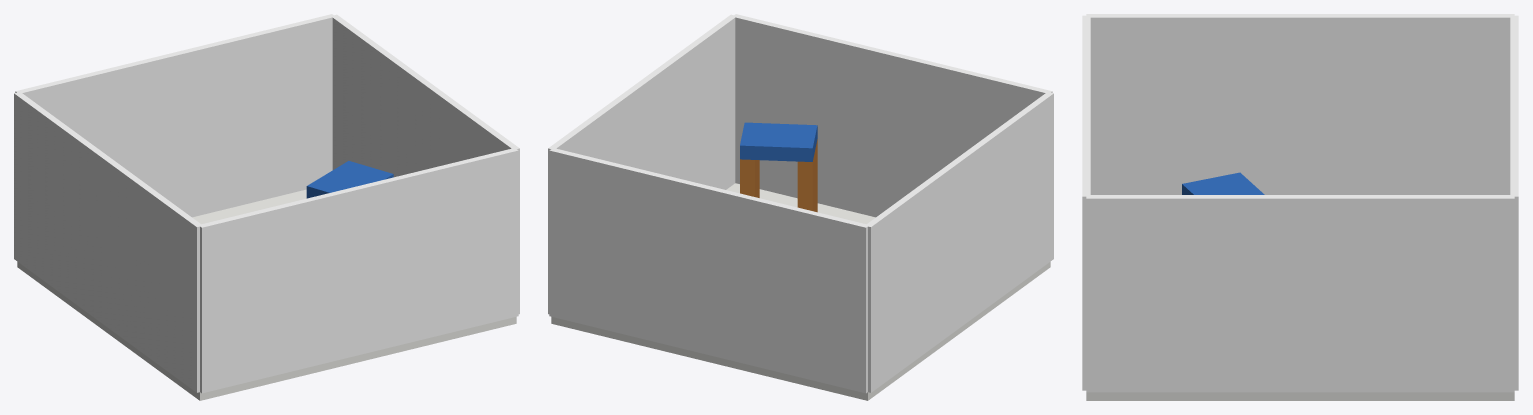
The model's file is wrong-light-type.glb.
The picture shows the model from 3 angles, left to right: view 1: azimuth 30°, elevation 25°; view 2: azimuth 150°, elevation 25°; view 3: azimuth 270°, elevation 25°; orthographic projection. The views are drawn at different scales.
Visible parts, largest first — view 1: wall-wall-c, wall-wall-a, wall-wall-d, wall-wall-b, floor-1, reference-space; view 2: wall-wall-a, wall-wall-c, wall-wall-d, wall-wall-b, floor-1, reference-space, mesh_0_instance_0, mesh_0_instance_1; view 3: wall-wall-b, wall-wall-d, floor-1, wall-wall-a, wall-wall-c, reference-space.
Part boxes in pixels (<box>): wall-wall-c: <box>199,148,518,393</box>; wall-wall-a: <box>15,14,335,217</box>; wall-wall-d: <box>14,92,201,392</box>; wall-wall-b: <box>332,14,519,314</box>; floor-1: <box>17,189,516,400</box>; reference-space: <box>306,161,393,198</box>; wall-wall-a: <box>549,148,869,393</box>; wall-wall-c: <box>733,14,1052,217</box>; wall-wall-d: <box>866,92,1053,392</box>; wall-wall-b: <box>548,14,736,314</box>; floor-1: <box>551,183,1050,400</box>; reference-space: <box>740,122,817,161</box>; mesh_0_instance_0: <box>797,139,817,212</box>; mesh_0_instance_1: <box>740,159,759,197</box>; wall-wall-b: <box>1086,195,1514,392</box>; wall-wall-d: <box>1086,14,1514,194</box>; floor-1: <box>1086,392,1514,400</box>; wall-wall-a: <box>1510,15,1518,390</box>; wall-wall-c: <box>1082,15,1090,390</box>; reference-space: <box>1182,172,1264,194</box>.
Bounding box in the file's own units: 6.12 × 3.16 × 6.12.
